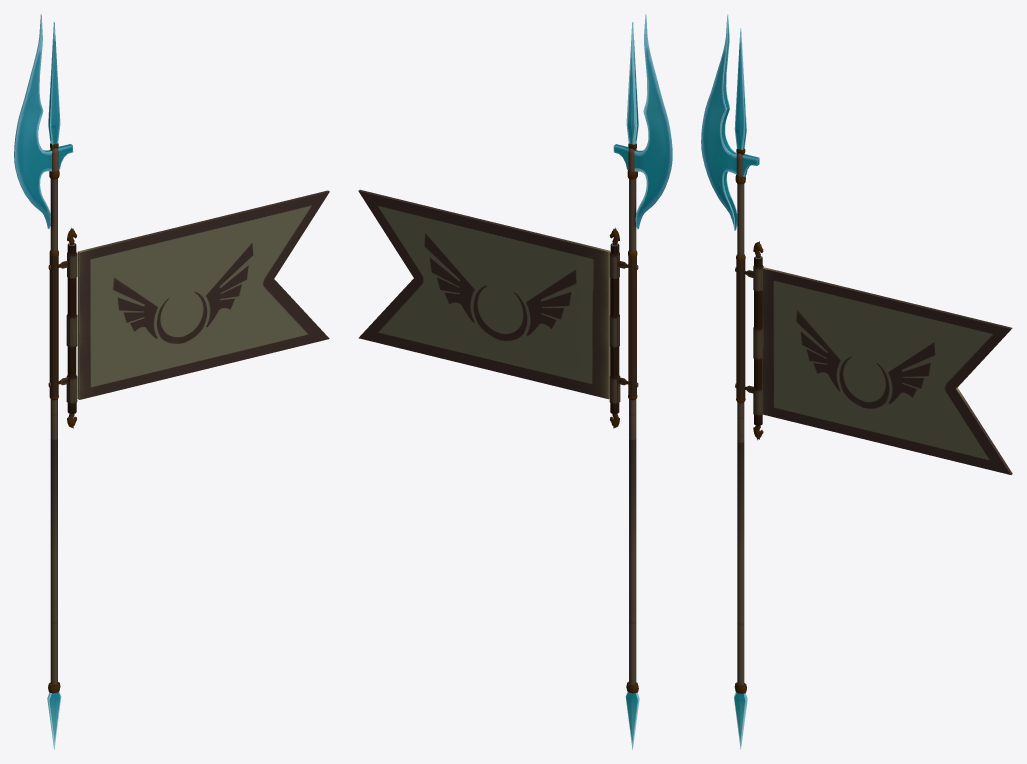
Rendered from SpearModel.fbx.
The picture shows the model from 3 angles, left to right: view 1: azimuth 30°, elevation 25°; view 2: azimuth 150°, elevation 25°; view 3: azimuth 330°, elevation 25°; orthographic projection.
Visible parts, largest first — view 1: Cube.001, Plane.005_low, Plane.005_low.002; view 2: Cube.001, Plane.005_low, Plane.005_low.002; view 3: Cube.001, Plane.005_low, Plane.005_low.002.
Part boxes in pixels (left/top/right/bottom): Cube.001: left=77, top=190, right=329, bottom=399; Plane.005_low: left=14, top=14, right=73, bottom=749; Plane.005_low.002: left=58, top=227, right=77, bottom=428; Cube.001: left=358, top=189, right=610, bottom=399; Plane.005_low: left=613, top=14, right=672, bottom=749; Plane.005_low.002: left=609, top=227, right=628, bottom=428; Cube.001: left=762, top=267, right=1012, bottom=474; Plane.005_low: left=701, top=14, right=759, bottom=749; Plane.005_low.002: left=744, top=241, right=763, bottom=440.
Size of the model in its own units: 188 by 423 by 5.51.
